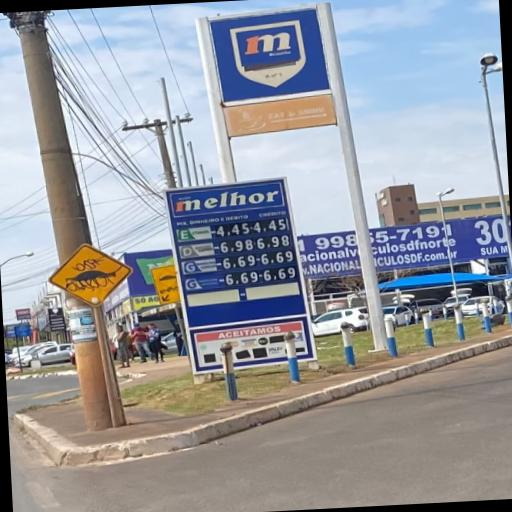ETANOL: (176, 227, 213, 242)
GASOLINA AD: (183, 274, 222, 290)
GASOLINA C: (182, 258, 218, 274)
S500: (180, 241, 216, 258)
placa: (172, 216, 302, 294)
preco: (218, 237, 256, 253), (216, 220, 251, 237), (224, 270, 261, 286), (222, 254, 258, 270)
